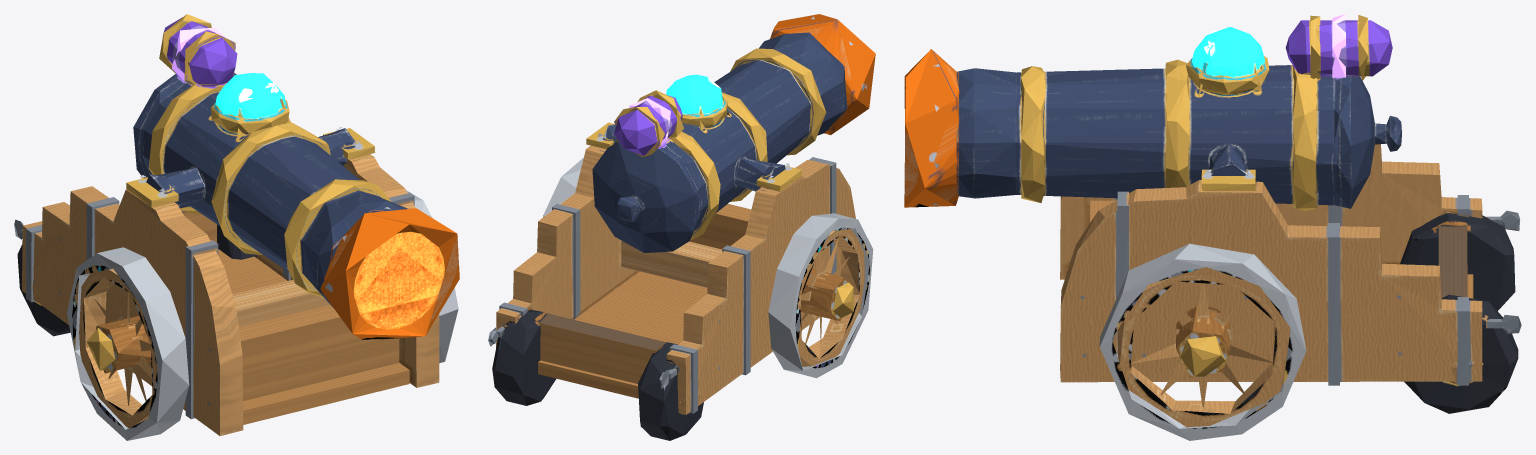
Rendered from Wrecker_v2_LOD2.fbx.
The picture shows the model from 3 angles, left to right: view 1: azimuth 30°, elevation 25°; view 2: azimuth 150°, elevation 25°; view 3: azimuth 270°, elevation 25°; orthographic projection. The views are drawn at different scales.
Visible parts, largest first — view 1: Carriage, Barrel, Wheel_FR, Slot_Booster, Slot_Module, Slot_Core, Wheel_FL, Wheel_RR, Wheel_RL; view 2: Carriage, Barrel, Wheel_FR, Slot_Booster, Wheel_RL, Wheel_RR, Slot_Module, Slot_Core, Wheel_FL; view 3: Carriage, Barrel, Wheel_FL, Slot_Booster, Slot_Module, Wheel_RR, Wheel_RL, Slot_Core.
Part boxes in pixels (x1,y1,x2,y2): Carriage: (14, 127, 439, 435); Barrel: (133, 73, 408, 308); Wheel_FR: (67, 247, 189, 440); Slot_Booster: (320, 207, 459, 340); Slot_Module: (159, 14, 237, 86); Slot_Core: (211, 73, 290, 140); Wheel_FL: (406, 190, 458, 363); Wheel_RR: (17, 244, 70, 336); Wheel_RL: (217, 224, 256, 259); Carriage: (488, 122, 855, 414); Barrel: (592, 32, 847, 252); Wheel_FR: (768, 213, 873, 378); Slot_Booster: (770, 14, 875, 135); Wheel_RL: (492, 309, 556, 405); Wheel_RR: (638, 342, 703, 440); Slot_Module: (614, 90, 683, 157); Slot_Core: (666, 74, 729, 130); Wheel_FL: (543, 157, 583, 217); Carriage: (1060, 144, 1521, 385); Barrel: (956, 59, 1401, 210); Wheel_FL: (1099, 243, 1306, 440); Slot_Booster: (904, 49, 959, 207); Slot_Module: (1285, 14, 1392, 80); Wheel_RR: (1400, 212, 1515, 310); Wheel_RL: (1404, 294, 1518, 413); Slot_Core: (1186, 27, 1269, 96).
Size of what is drawn, in the model's own units: 2.44 by 2.27 by 3.63.
2 materials, 2 textured.
